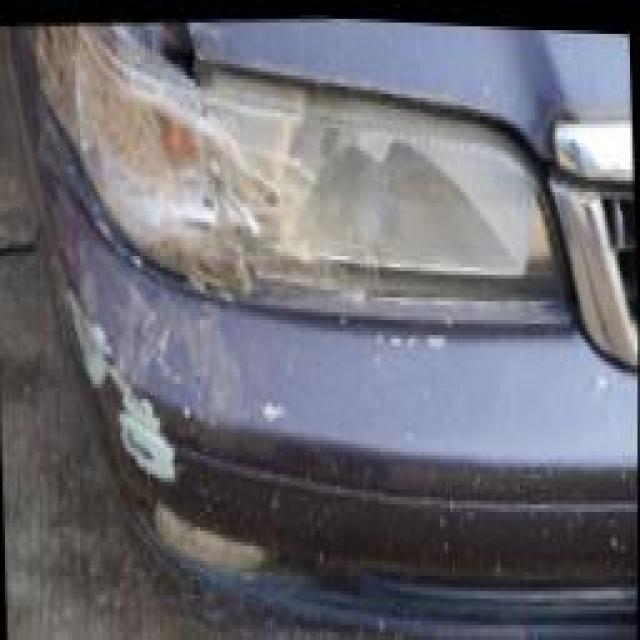Bumper: (25, 222, 474, 618)
Light: (58, 30, 301, 293)
